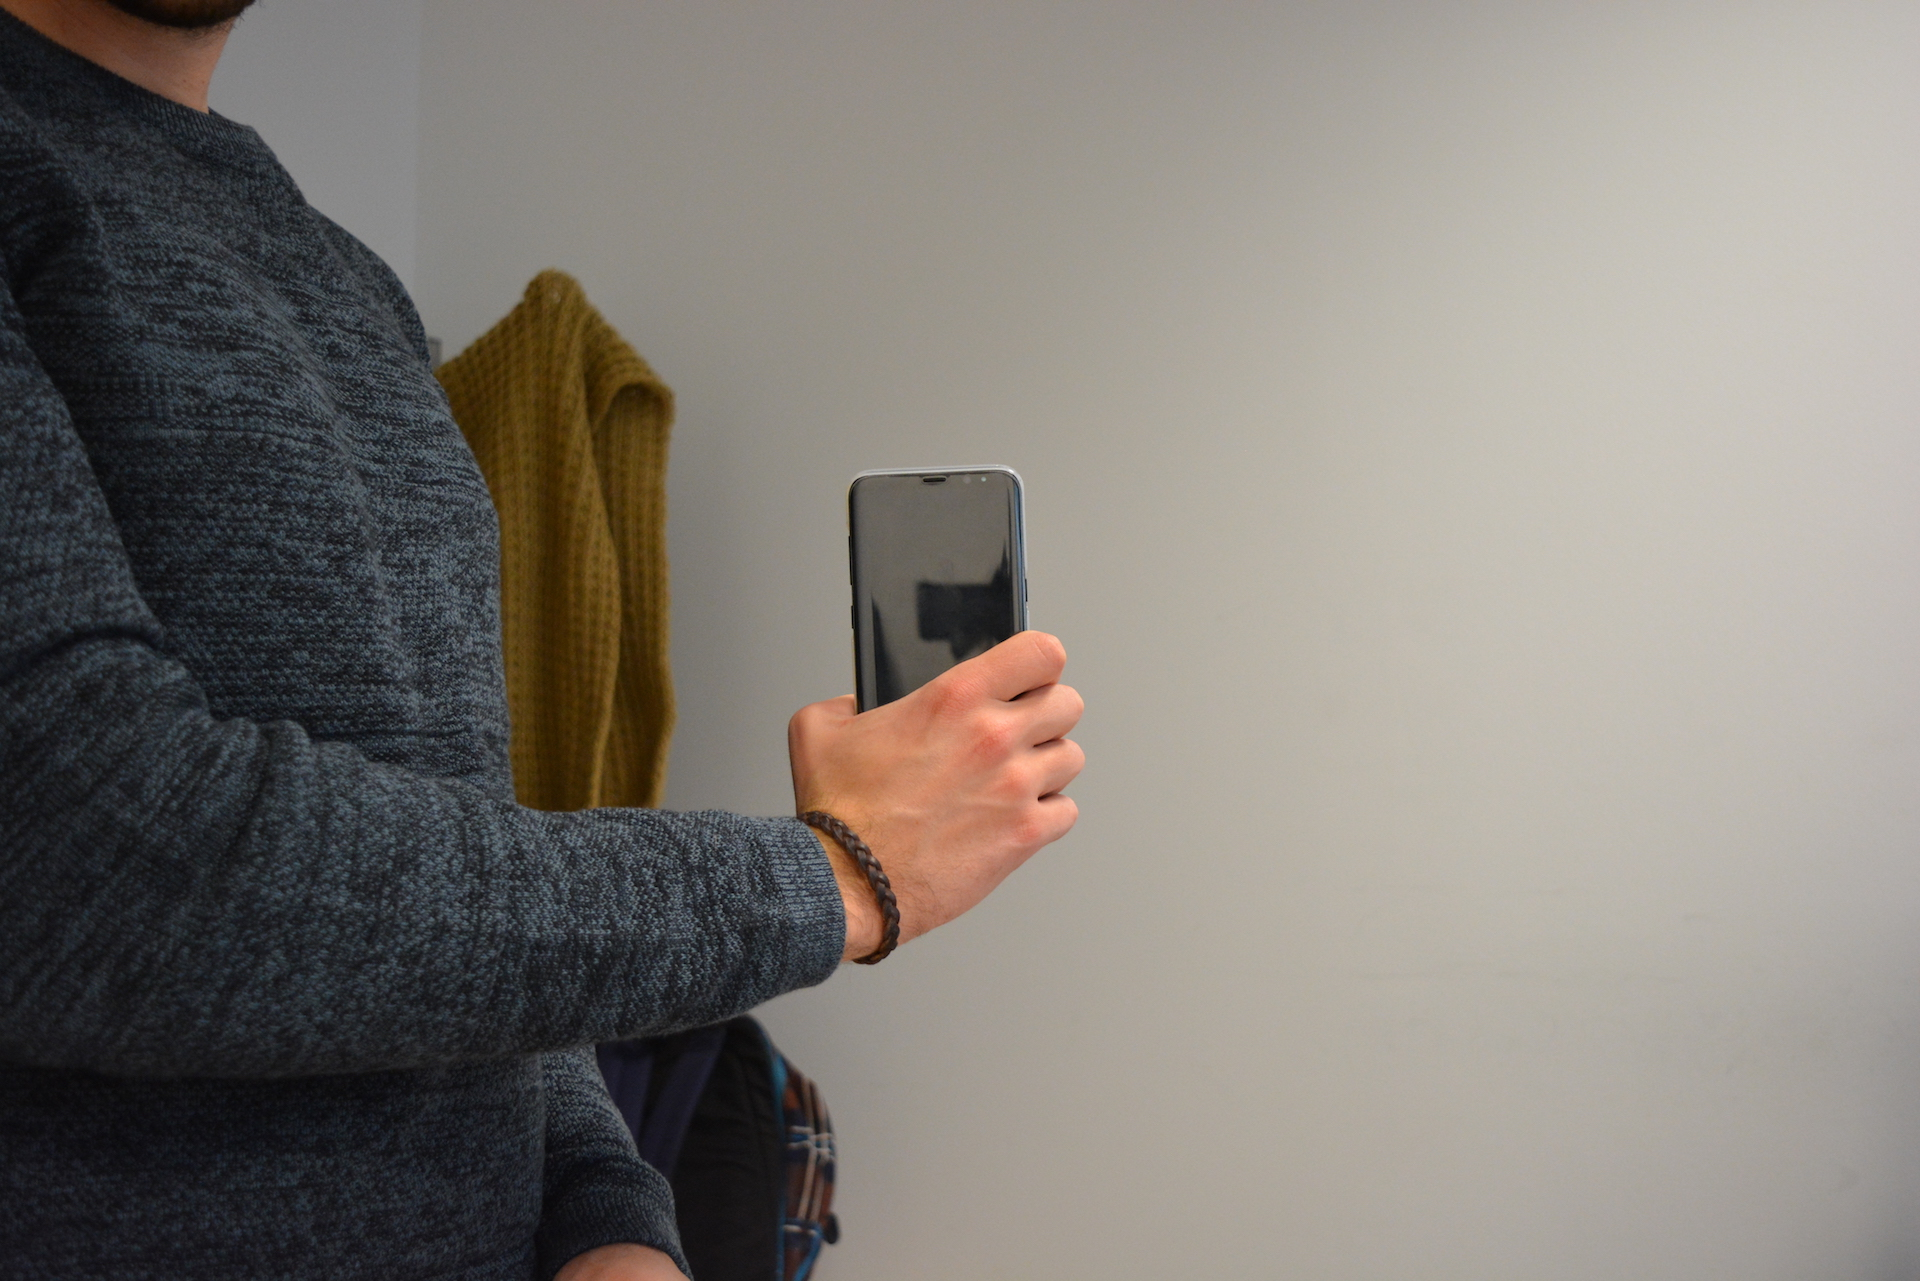smartphone: (843, 460, 1039, 718)
